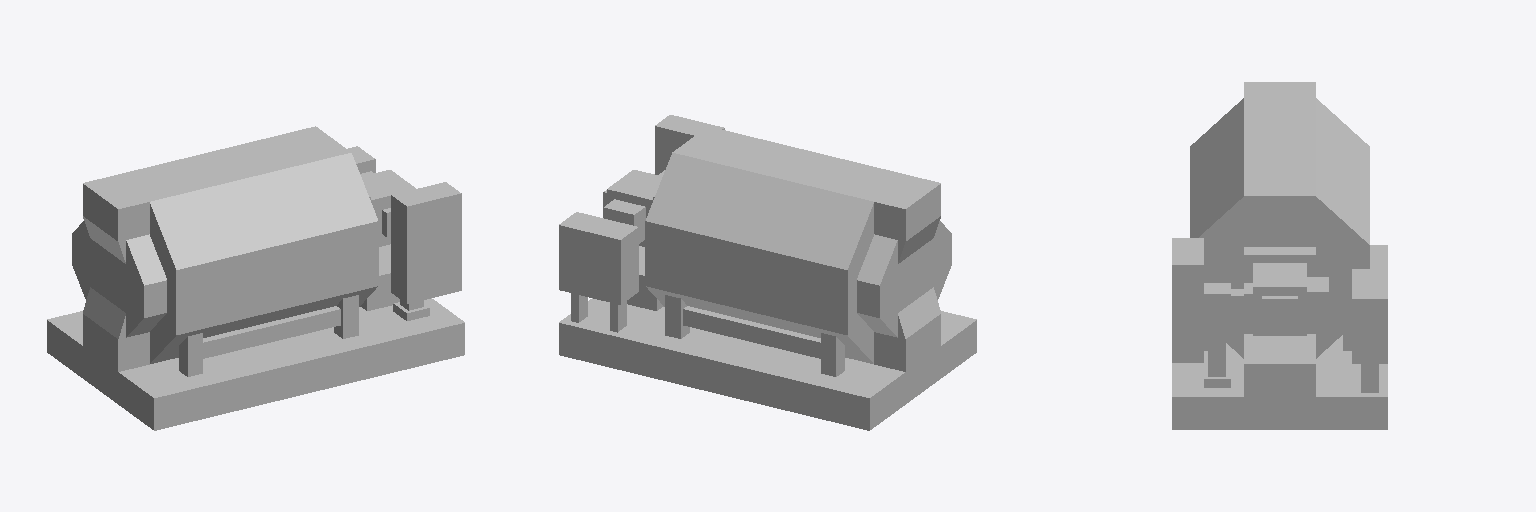
File: boiler.obj
3 views of the same model, side by side, from view 1: azimuth 30°, elevation 25°; view 2: azimuth 150°, elevation 25°; view 3: azimuth 270°, elevation 25° (orthographic).
Parts seen in each view (by area): view 1: cuboid; view 2: cuboid; view 3: cuboid.
Part boxes in pixels (x1,y1,x2,y2): cuboid: (47, 126, 464, 430); cuboid: (559, 115, 976, 430); cuboid: (1172, 82, 1387, 429).
Bounding box in the file's own units: 5 × 3 × 3.